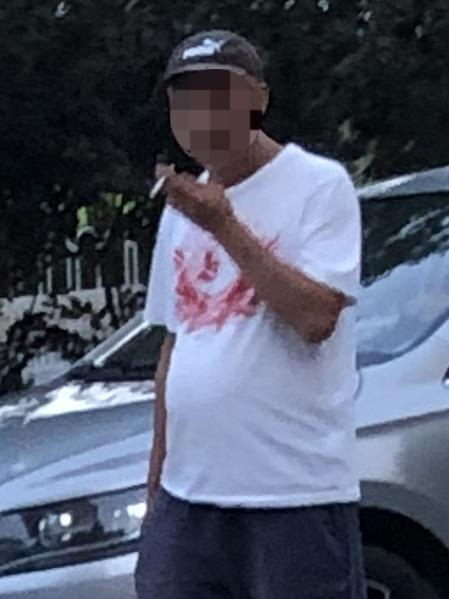smoke: (149, 163, 176, 206)
